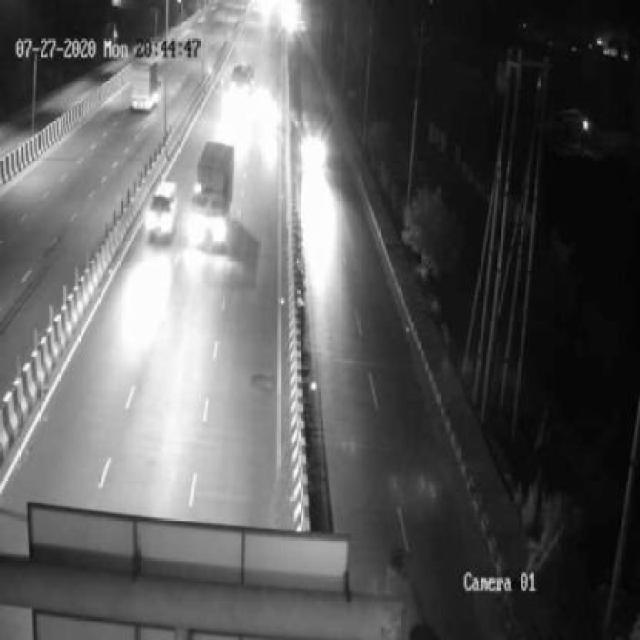car: (145, 177, 180, 235)
